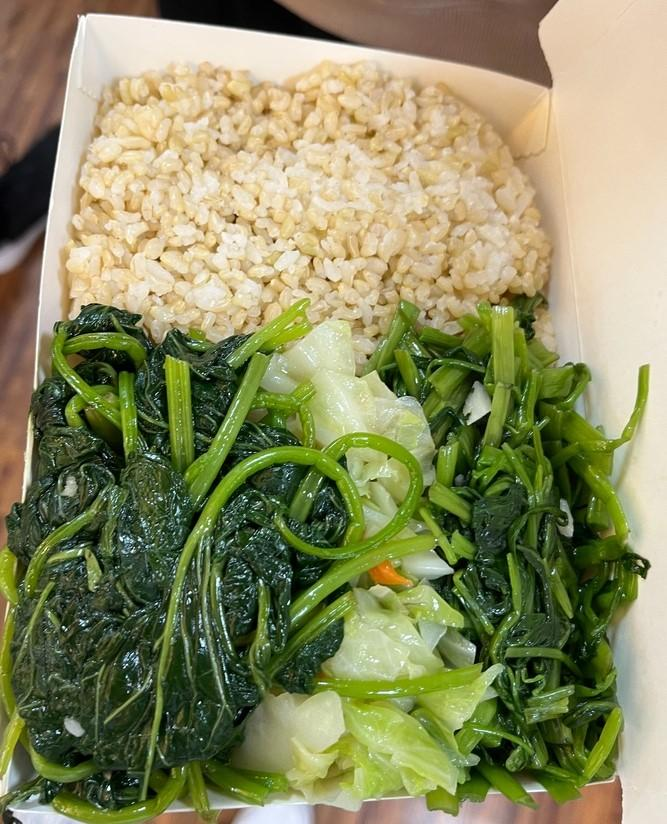big grilled chicken leg: (6, 4, 631, 824)
box: (68, 52, 548, 332)
braised fish fillet: (12, 326, 324, 804), (438, 340, 628, 782), (271, 348, 436, 796)
